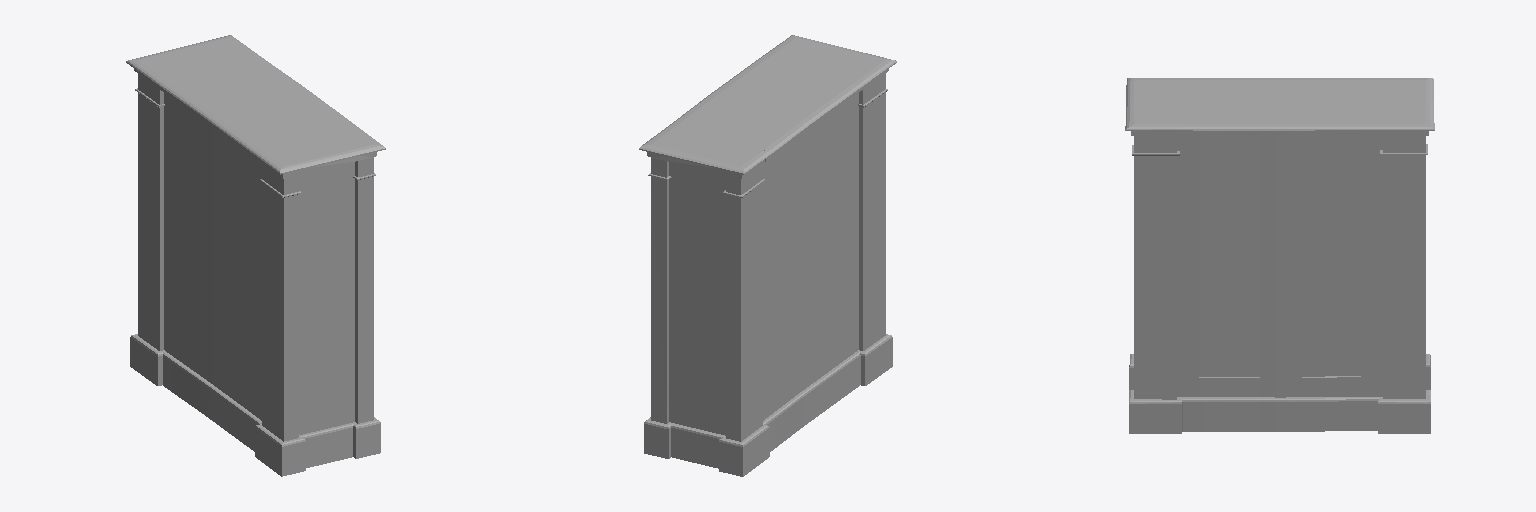
The model's file is mobile.obj.
3 renders of one model, left to right at view 1: azimuth 30°, elevation 25°; view 2: azimuth 150°, elevation 25°; view 3: azimuth 270°, elevation 25°, orthographic.
Visible parts, largest first — view 1: IN_Mobile3; view 2: IN_Mobile3; view 3: IN_Mobile3.
Boxes of the visible parts, <box> form: IN_Mobile3: <box>126,35,385,476</box>; IN_Mobile3: <box>639,35,896,476</box>; IN_Mobile3: <box>1125,78,1434,433</box>.
Bounding box in the file's own units: 0.4772 × 1.32 × 1.2.